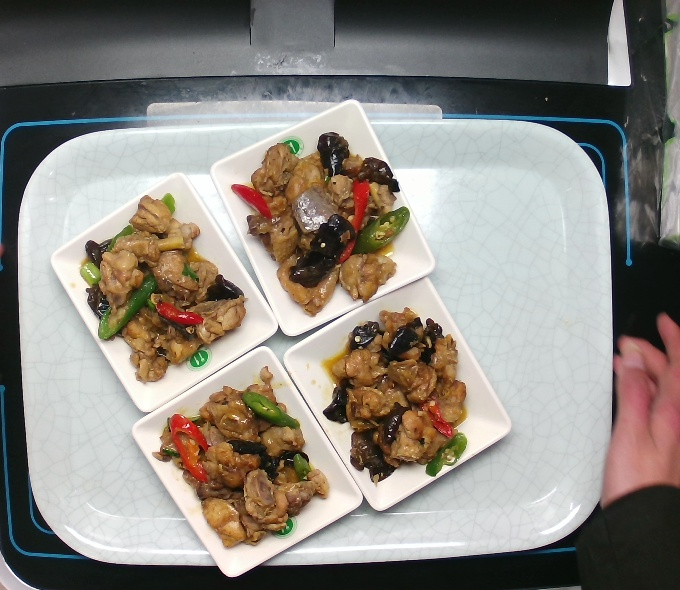wcq-LaZiJi: (228, 126, 413, 317), (76, 190, 253, 388), (151, 361, 333, 552), (318, 301, 471, 487)
